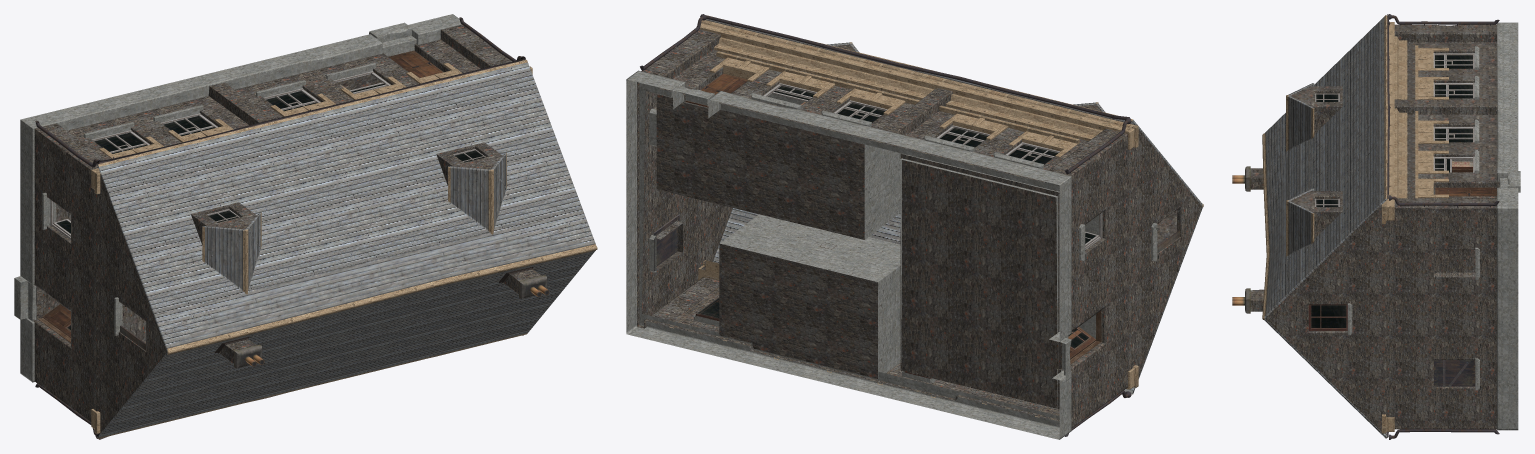
Rendered from hd_bld_EU_060_VHouse_01A.fbx.
3 renders of one model, left to right at view 1: azimuth 30°, elevation 25°; view 2: azimuth 150°, elevation 25°; view 3: azimuth 270°, elevation 25°, orthographic. The views are drawn at different scales.
Parts seen in each view (by area): view 1: set_0_group_4, set_0_group_5, set_0_group_1, set_0_group_3, set_0_group_0, set_0_group_2; view 2: set_0_group_2, set_0_group_5, set_0_group_1, set_0_group_3, set_0_group_0, set_0_group_4; view 3: set_0_group_5, set_0_group_4, set_0_group_1, set_0_group_3, set_0_group_0.
Boxes of the visible parts, left/top/right/bottom form: set_0_group_4: left=97, top=62, right=595, bottom=438; set_0_group_5: left=33, top=24, right=541, bottom=432; set_0_group_1: left=14, top=14, right=461, bottom=382; set_0_group_3: left=91, top=59, right=597, bottom=438; set_0_group_0: left=35, top=17, right=549, bottom=439; set_0_group_2: left=36, top=74, right=381, bottom=343; set_0_group_2: left=656, top=94, right=1176, bottom=409; set_0_group_5: left=637, top=29, right=1201, bottom=427; set_0_group_1: left=626, top=70, right=1157, bottom=439; set_0_group_3: left=669, top=15, right=1203, bottom=417; set_0_group_0: left=640, top=14, right=1180, bottom=436; set_0_group_4: left=706, top=19, right=1202, bottom=393; set_0_group_5: left=1250, top=24, right=1499, bottom=431; set_0_group_4: left=1264, top=17, right=1387, bottom=438; set_0_group_1: left=1347, top=22, right=1520, bottom=430; set_0_group_3: left=1262, top=15, right=1448, bottom=433; set_0_group_0: left=1232, top=14, right=1499, bottom=439.
Bounding box in the file's own units: 1694 × 1026 × 1097.
6 materials, 6 textured.
